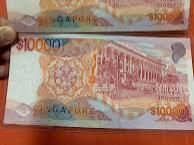10000SingaporeDollar: (11, 38, 194, 122)
